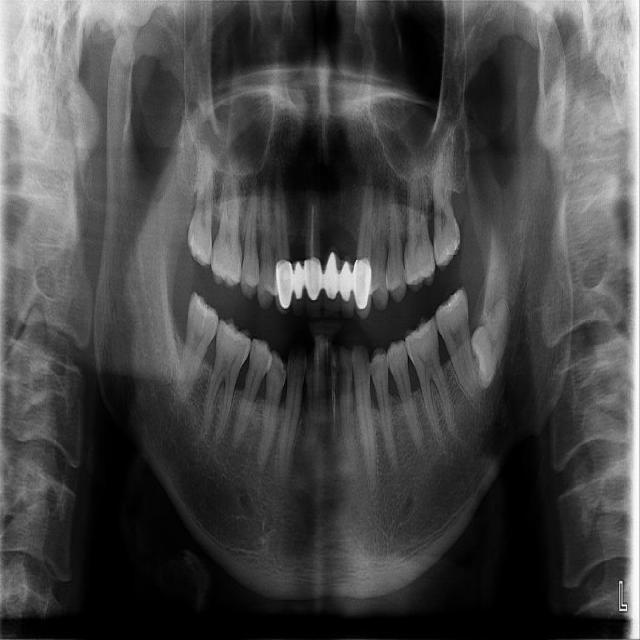52: (275, 252, 372, 309)
73: (327, 358, 341, 444), (604, 590, 610, 599)
BioHorizons Implant: (432, 155, 461, 272)
Biomet 3i Implant: (456, 295, 520, 392)
Blue Sky Bio Implant: (430, 287, 484, 410)
Caries: (187, 158, 214, 267)
Implant: (171, 291, 223, 409)
